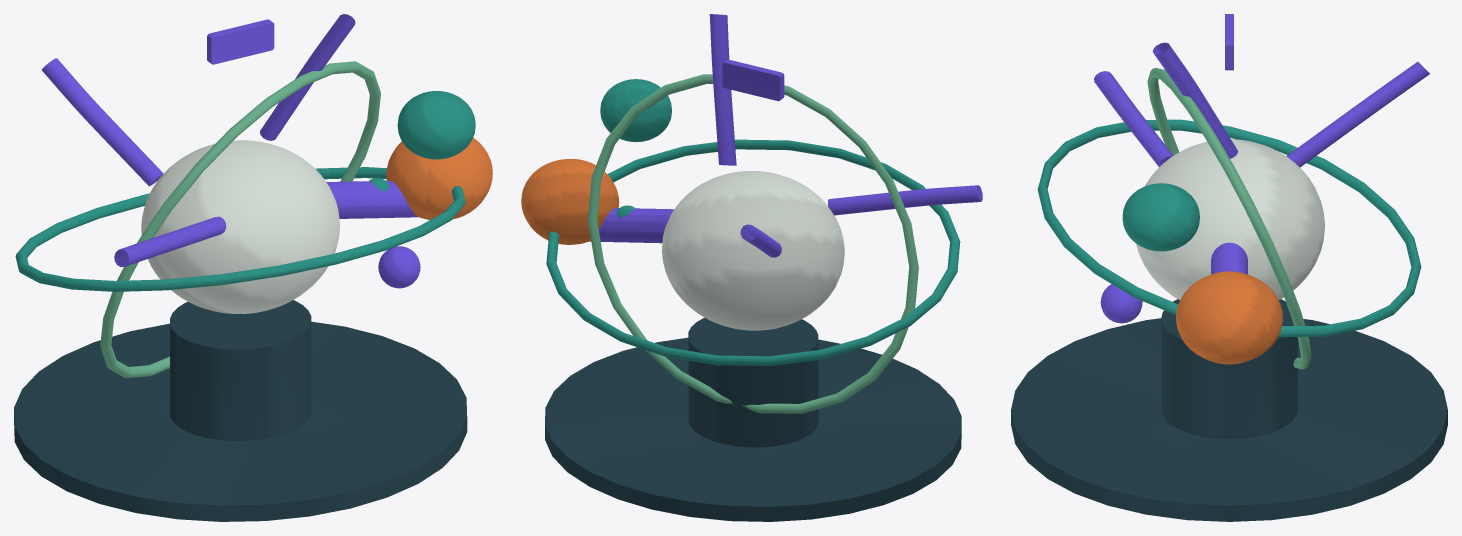
Rendered from 0525_生活中的化学图鉴_聚乙烯.glb.
The picture shows the model from 3 angles, left to right: view 1: azimuth 30°, elevation 25°; view 2: azimuth 150°, elevation 25°; view 3: azimuth 270°, elevation 25°; orthographic projection. The views are drawn at different scales.
Parts seen in each view (by area): view 1: card_0525; view 2: card_0525; view 3: card_0525.
Boxes of the visible parts, x1=… form: card_0525: x1=14, y1=14, x2=492, y2=521; card_0525: x1=521, y1=14, x2=982, y2=521; card_0525: x1=1011, y1=14, x2=1447, y2=521.
Size of the model in its own units: 1.12 by 1 by 0.9526.
